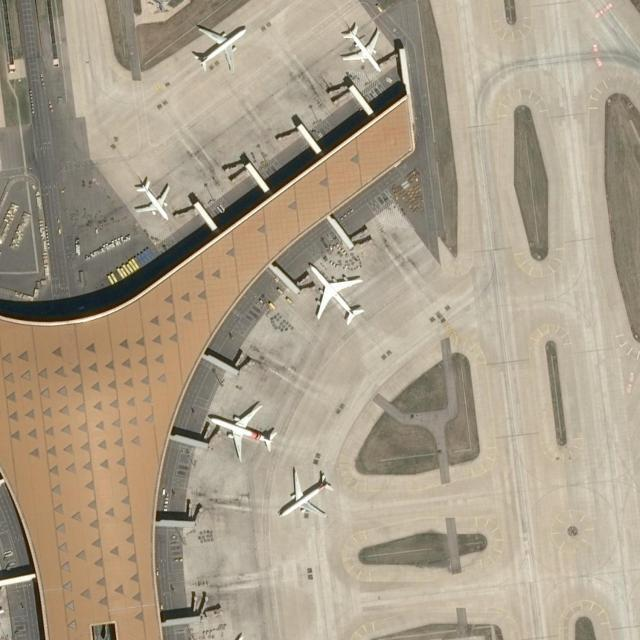Aircraft: (302, 261, 370, 329), (206, 401, 280, 457), (189, 18, 251, 72), (275, 469, 337, 520), (336, 20, 384, 74), (130, 173, 172, 221)
